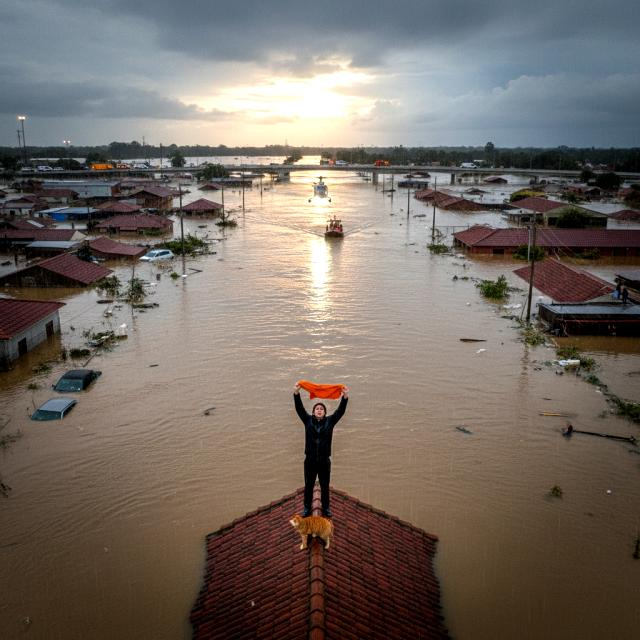cat: (286, 510, 340, 552)
civilian: (286, 378, 354, 520)
